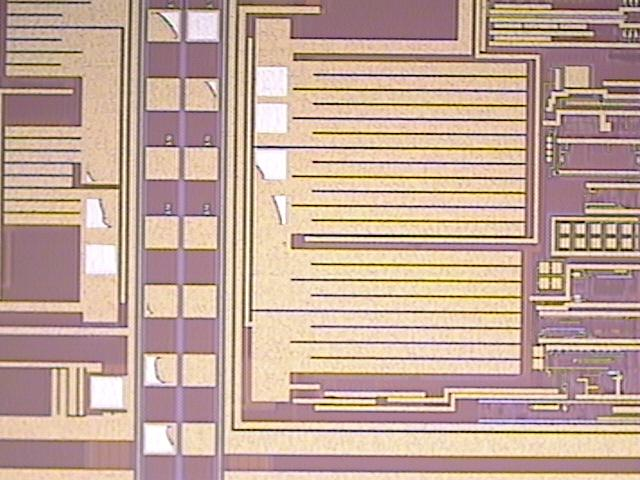COATING BAD: (74, 1, 303, 466)
